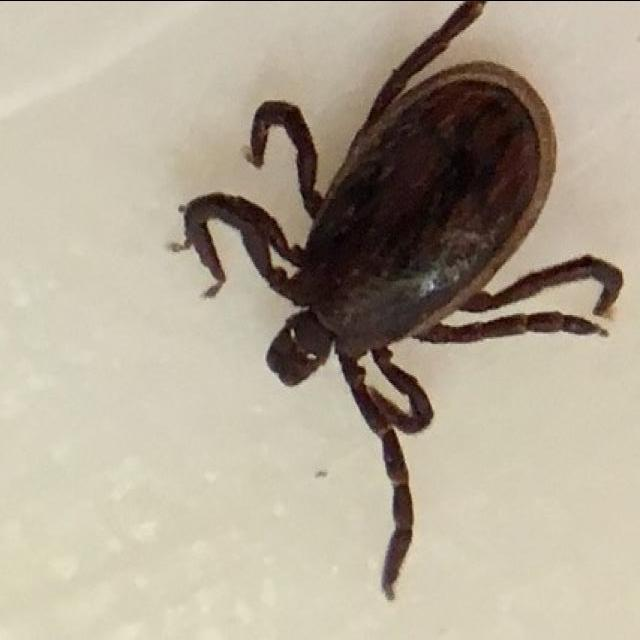Ixodes Ricinus-M: (178, 0, 625, 597)
